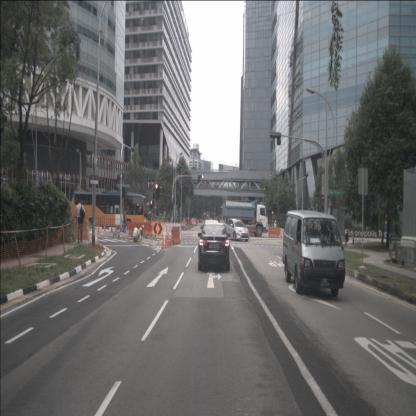human-pedestrian-adult: (75, 198, 86, 244), (123, 209, 127, 235)
movable_object-barrier: (162, 222, 178, 237), (128, 221, 142, 234), (140, 221, 152, 236), (171, 226, 180, 245), (268, 226, 281, 238), (177, 223, 182, 241)
movable_object-trafficcone: (164, 233, 168, 248), (161, 234, 165, 249), (170, 233, 174, 244), (167, 234, 170, 245), (103, 224, 106, 233), (110, 224, 113, 232), (118, 230, 120, 240), (98, 224, 100, 234)
vehicle-bus-rigid: (71, 192, 148, 230)
vehicle-car: (282, 209, 345, 297), (198, 223, 230, 272), (202, 220, 222, 263), (223, 218, 249, 241)
vehicle-truck: (222, 200, 268, 237)
